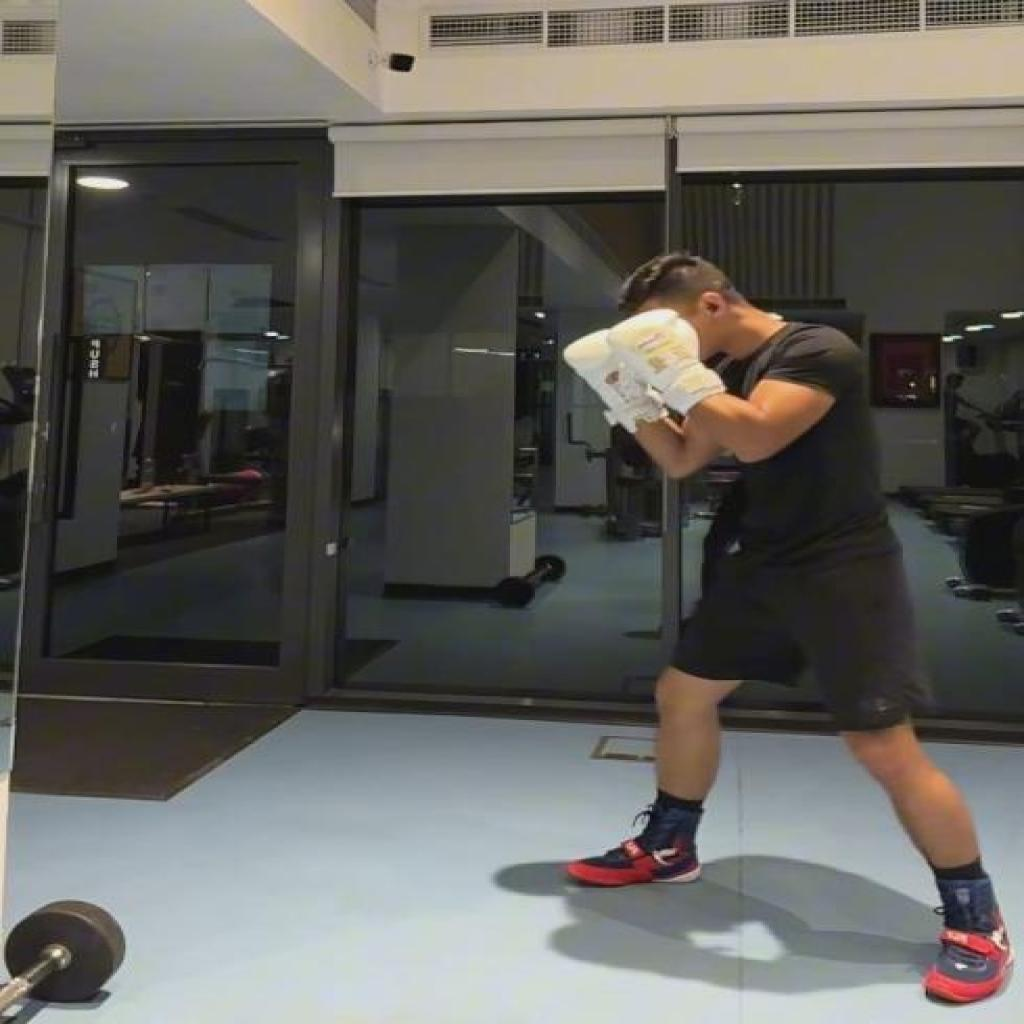no punch: (558, 248, 1014, 1006)
